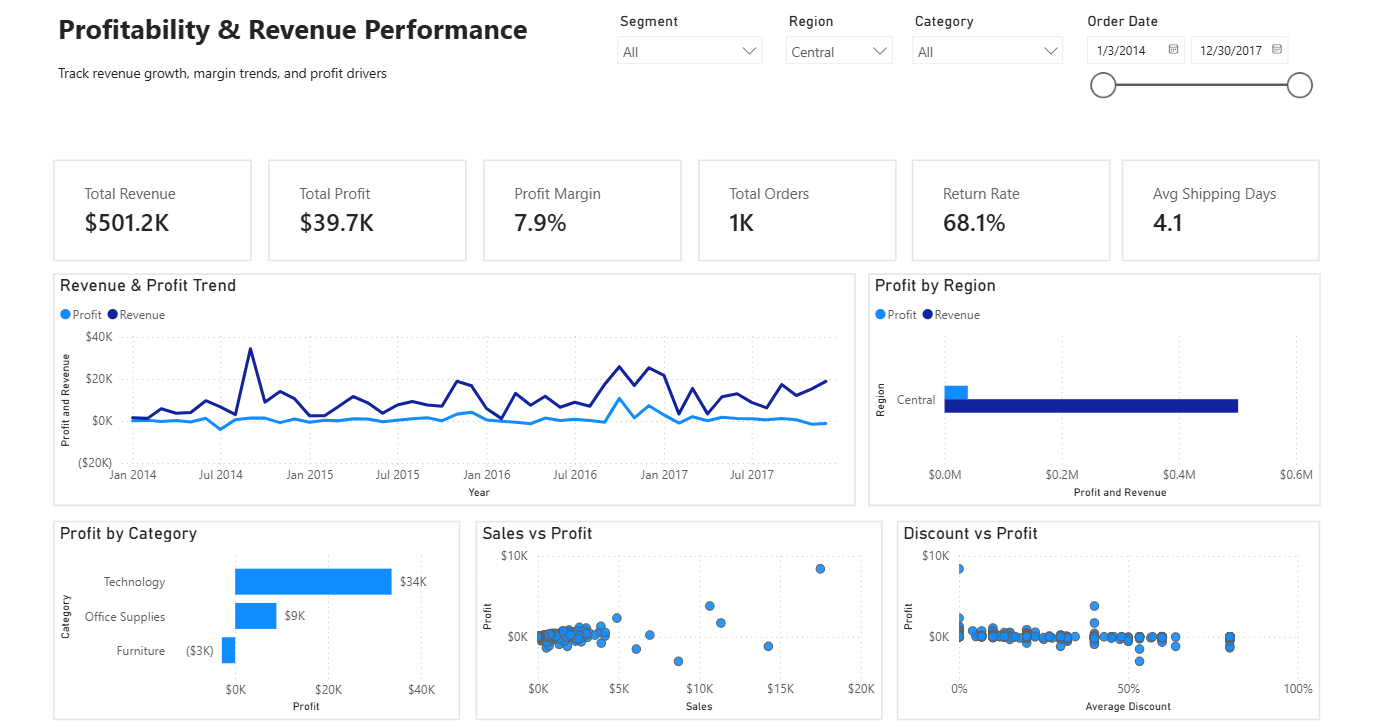

Layout of this report page (visuals, bound fields, positions):
{"tool":"powerbi","page":{"name":"Page 1","canvas":[1280,720],"ordinal":0},"visuals":[{"type":"cardVisual","fields":{"Data":["superstore_processed.Total Revenue"]},"box":[19.6,160.2,195,100.3],"z":0},{"type":"cardVisual","fields":{"Data":["superstore_processed.Total Profit"]},"box":[230.9,160.2,195,100.3],"z":1000},{"type":"cardVisual","fields":{"Data":["superstore_processed.Profit Margin"]},"box":[442.1,160.2,195,100.3],"z":2000},{"type":"cardVisual","fields":{"Data":["superstore_processed.Total Orders"]},"box":[652.9,160.2,195,100.3],"z":3000},{"type":"cardVisual","fields":{"Data":["superstore_processed.Return Rate"]},"box":[863.6,160.2,195,100.3],"z":4000},{"type":"lineChart","title":"Revenue & Profit Trend","fields":{"Category":["superstore_processed.Order Date.Variation.Date Hierarchy.Year","superstore_processed.Order Date.Variation.Date Hierarchy.Month"],"Y":["superstore_processed.Total Profit","superstore_processed.Total Revenue"]},"box":[20,271.2,788.8,228.8],"z":5000},{"type":"clusteredBarChart","title":"Profit by Category","fields":{"Category":["superstore_processed.Category"],"Y":["superstore_processed.Total Profit"]},"box":[20,515,400,196.2],"z":6000},{"type":"scatterChart","title":"Sales vs Profit","fields":{"X":["Sum(superstore_processed.Sales)"],"Y":["Sum(superstore_processed.Profit)"],"Category":["superstore_processed.Product Name"]},"box":[434.4,515,400,196],"z":7000},{"type":"scatterChart","title":"Discount vs Profit","fields":{"X":["Avg(superstore_processed.Discount)"],"Y":["Sum(superstore_processed.Profit)"],"Category":["superstore_processed.Product Name"]},"box":[848.8,515,416.2,196],"z":8000},{"type":"clusteredBarChart","title":"Profit by Region","fields":{"Category":["superstore_processed.Region"],"Y":["superstore_processed.Total Profit","superstore_processed.Total Revenue"]},"box":[820,271.2,445,228.8],"z":9000},{"type":"slicer","fields":{"Values":["superstore_processed.Region"]},"box":[728.8,10,125,85],"z":10000},{"type":"slicer","fields":{"Values":["superstore_processed.Segment"]},"box":[563.8,10,162.5,67.5],"z":11000},{"type":"slicer","fields":{"Values":["superstore_processed.Category"]},"box":[853.8,10,168.8,85],"z":12000},{"type":"slicer","fields":{"Values":["superstore_processed.Order Date"]},"box":[1022.5,10,242.5,150],"z":13000},{"type":"textbox","box":[20,7.5,543.8,115],"z":14000},{"type":"cardVisual","fields":{"Data":["superstore_processed.Avg Shipping Days"]},"box":[1070,160.2,194.4,100.3],"z":15000}]}

Visuals, with their boxes on the page's 1280x720 design canvas (x1, y1, x2, y2). These are canvas units, not pixel positions in the 1388x728 screenshot, which may show the page scaled, cropped or inside an application window:
cardVisual - superstore_processed.Total Revenue: x1=20 y1=160 x2=215 y2=260
cardVisual - superstore_processed.Total Profit: x1=231 y1=160 x2=426 y2=260
cardVisual - superstore_processed.Profit Margin: x1=442 y1=160 x2=637 y2=260
cardVisual - superstore_processed.Total Orders: x1=653 y1=160 x2=848 y2=260
cardVisual - superstore_processed.Return Rate: x1=864 y1=160 x2=1059 y2=260
"Revenue & Profit Trend" lineChart: x1=20 y1=271 x2=809 y2=500
"Profit by Category" clusteredBarChart: x1=20 y1=515 x2=420 y2=711
"Sales vs Profit" scatterChart: x1=434 y1=515 x2=834 y2=711
"Discount vs Profit" scatterChart: x1=849 y1=515 x2=1265 y2=711
"Profit by Region" clusteredBarChart: x1=820 y1=271 x2=1265 y2=500
slicer - superstore_processed.Region: x1=729 y1=10 x2=854 y2=95
slicer - superstore_processed.Segment: x1=564 y1=10 x2=726 y2=78
slicer - superstore_processed.Category: x1=854 y1=10 x2=1023 y2=95
slicer - superstore_processed.Order Date: x1=1022 y1=10 x2=1265 y2=160
textbox: x1=20 y1=8 x2=564 y2=122
cardVisual - superstore_processed.Avg Shipping Days: x1=1070 y1=160 x2=1264 y2=260
